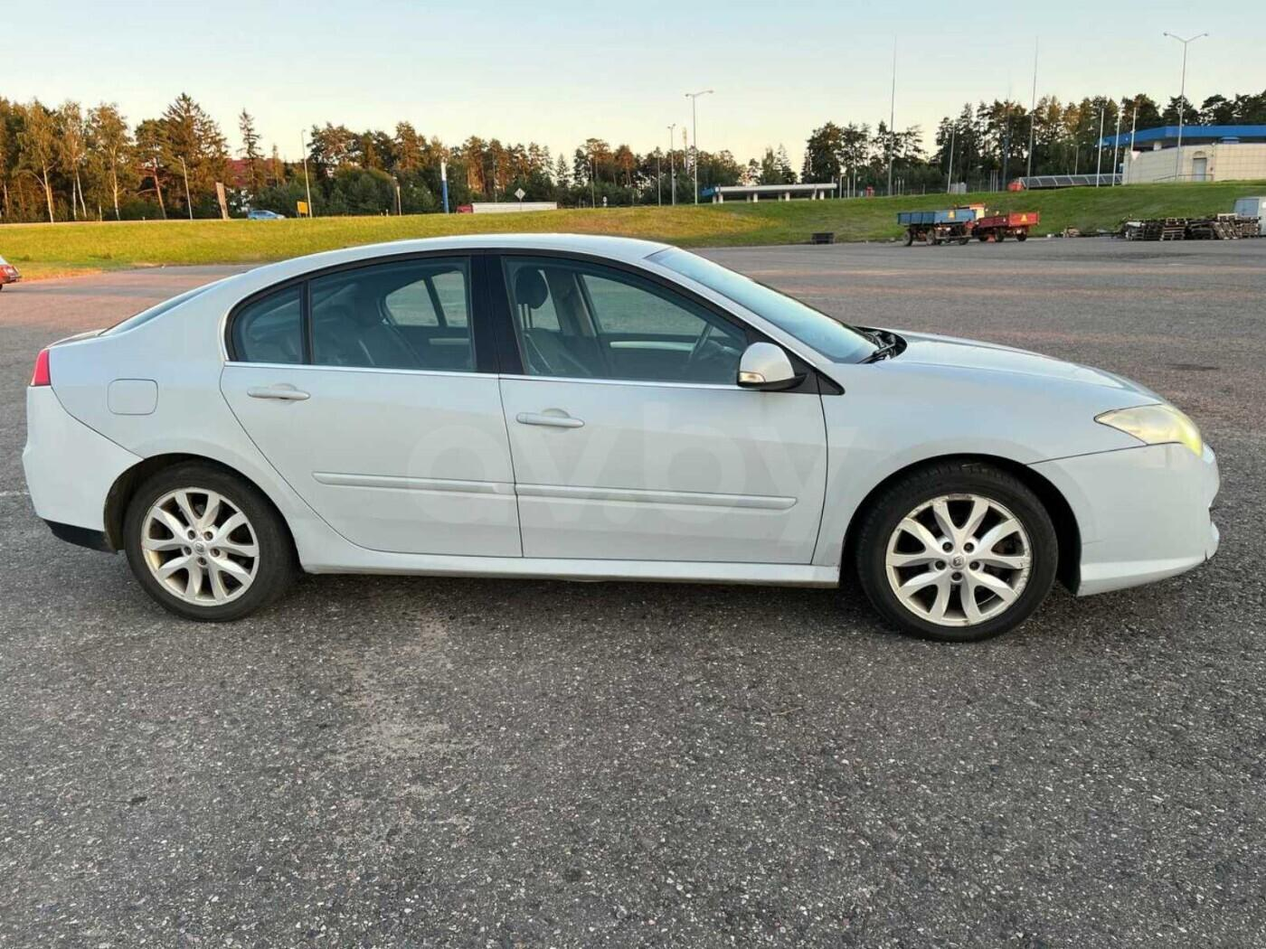Laguna_2007-2011: (23, 234, 1218, 641)
